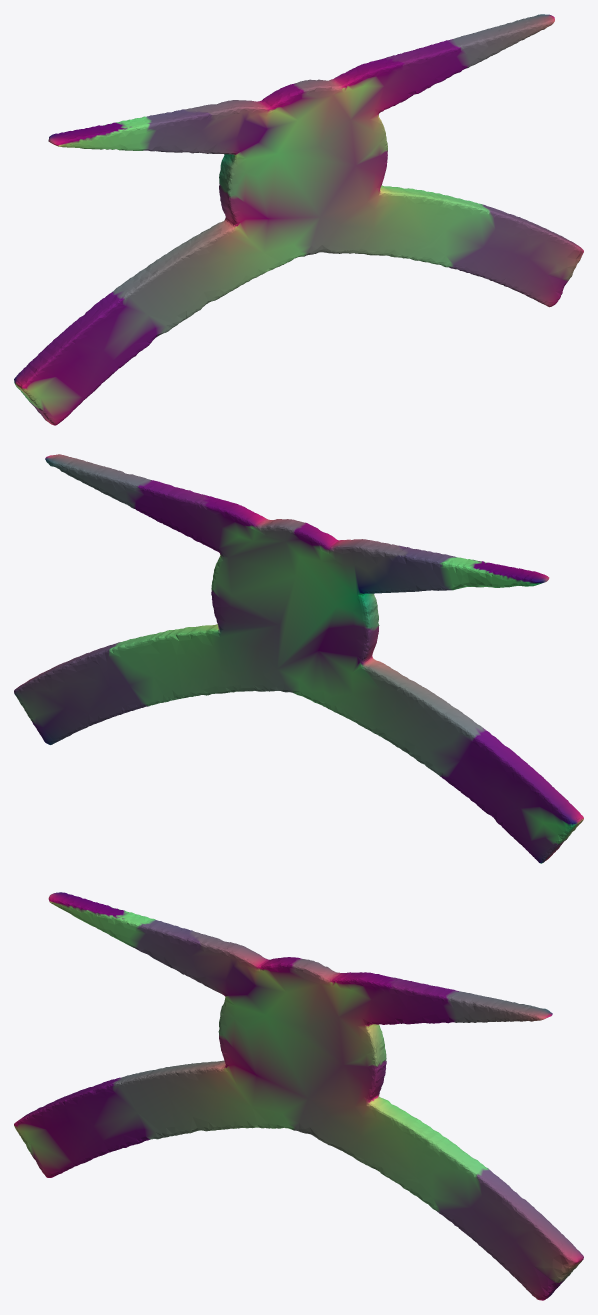
The model's file is scissor-17.off.obj.
3 renders of one model, top to bottom at view 1: azimuth 30°, elevation 25°; view 2: azimuth 150°, elevation 25°; view 3: azimuth 330°, elevation 25°, orthographic.
Size of the model in its own units: 1.7 by 0.8292 by 0.0605.
